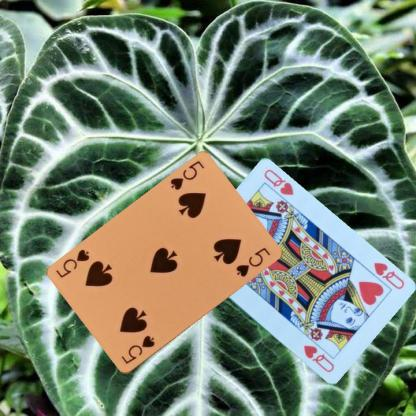5s: (167, 158, 206, 192), (118, 333, 156, 366)
Qh: (370, 260, 406, 290)
